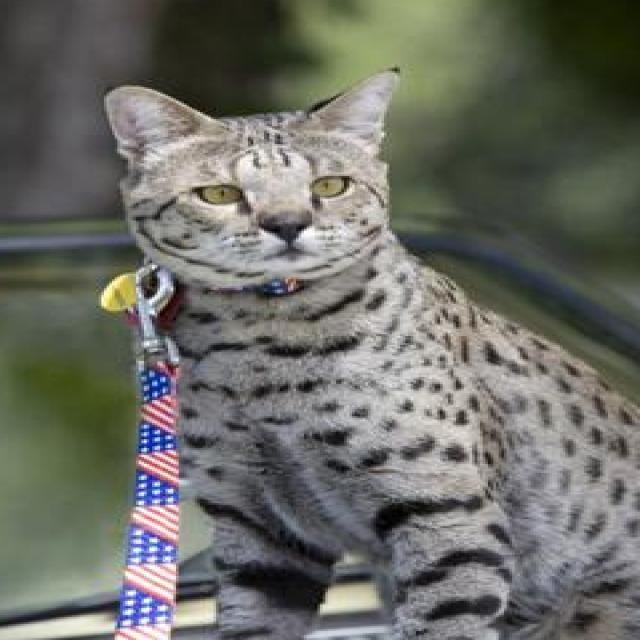Savannah: (93, 62, 640, 640)
